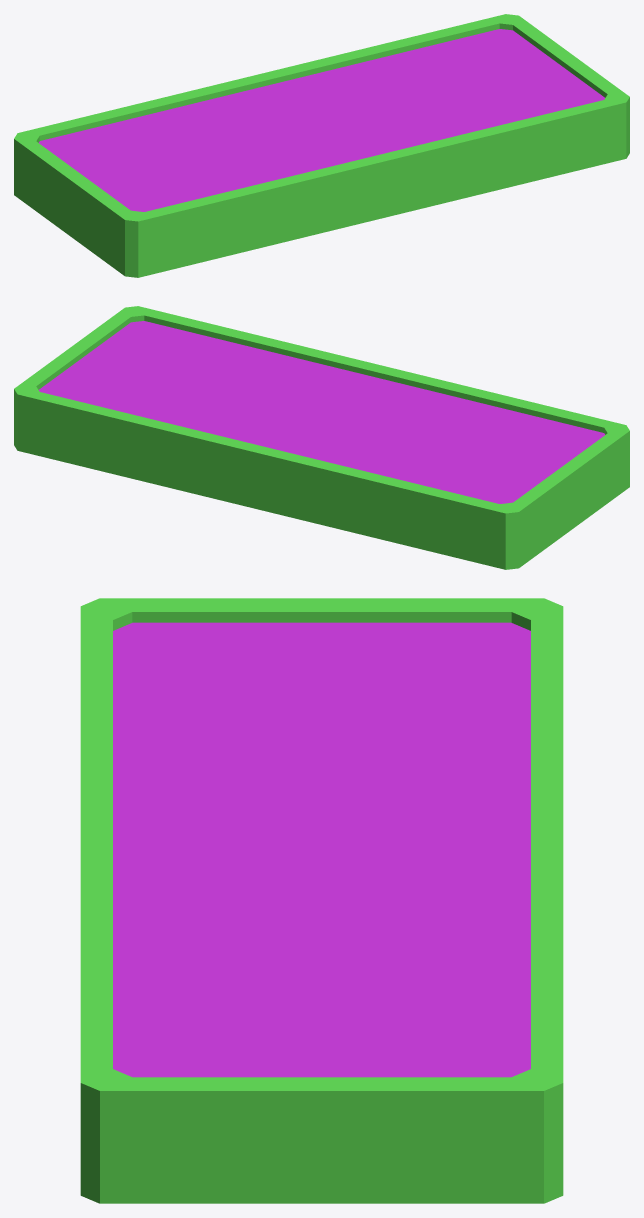
The model's file is Weapon_Box_01.fbx.
The picture shows the model from 3 angles, top to bottom: view 1: azimuth 30°, elevation 25°; view 2: azimuth 150°, elevation 25°; view 3: azimuth 270°, elevation 25°; orthographic projection. The views are drawn at different scales.
Parts seen in each view (by area): view 1: Weapon_Box_01; view 2: Weapon_Box_01; view 3: Weapon_Box_01.
Part boxes in pixels (x1,y1,x2,y2): Weapon_Box_01: (14,14,629,277); Weapon_Box_01: (14,306,629,569); Weapon_Box_01: (80,598,563,1203).
Size of the model in its own units: 147 by 15.71 by 60.96.
